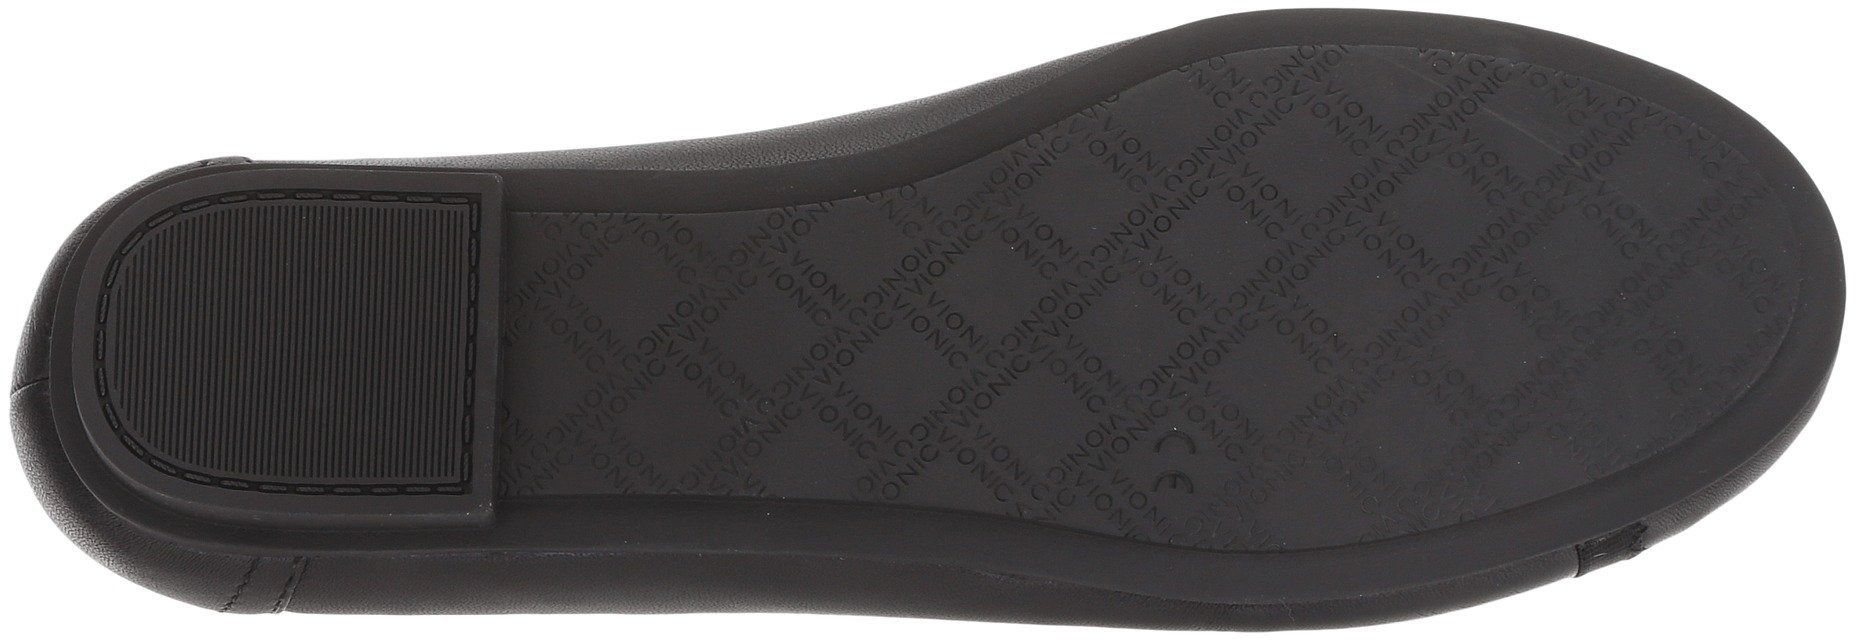exclude: (488, 140, 859, 578)
other: (205, 211, 458, 472), (112, 295, 201, 387)
text: (1322, 75, 1462, 193), (1178, 269, 1306, 379), (1017, 211, 1133, 327), (862, 193, 981, 292), (1181, 124, 1282, 234), (1507, 146, 1615, 244), (919, 310, 1014, 405), (1069, 357, 1156, 453), (1391, 241, 1484, 327), (1646, 211, 1729, 298), (889, 421, 956, 490)
